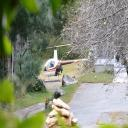helicopter: (40, 44, 93, 84)
